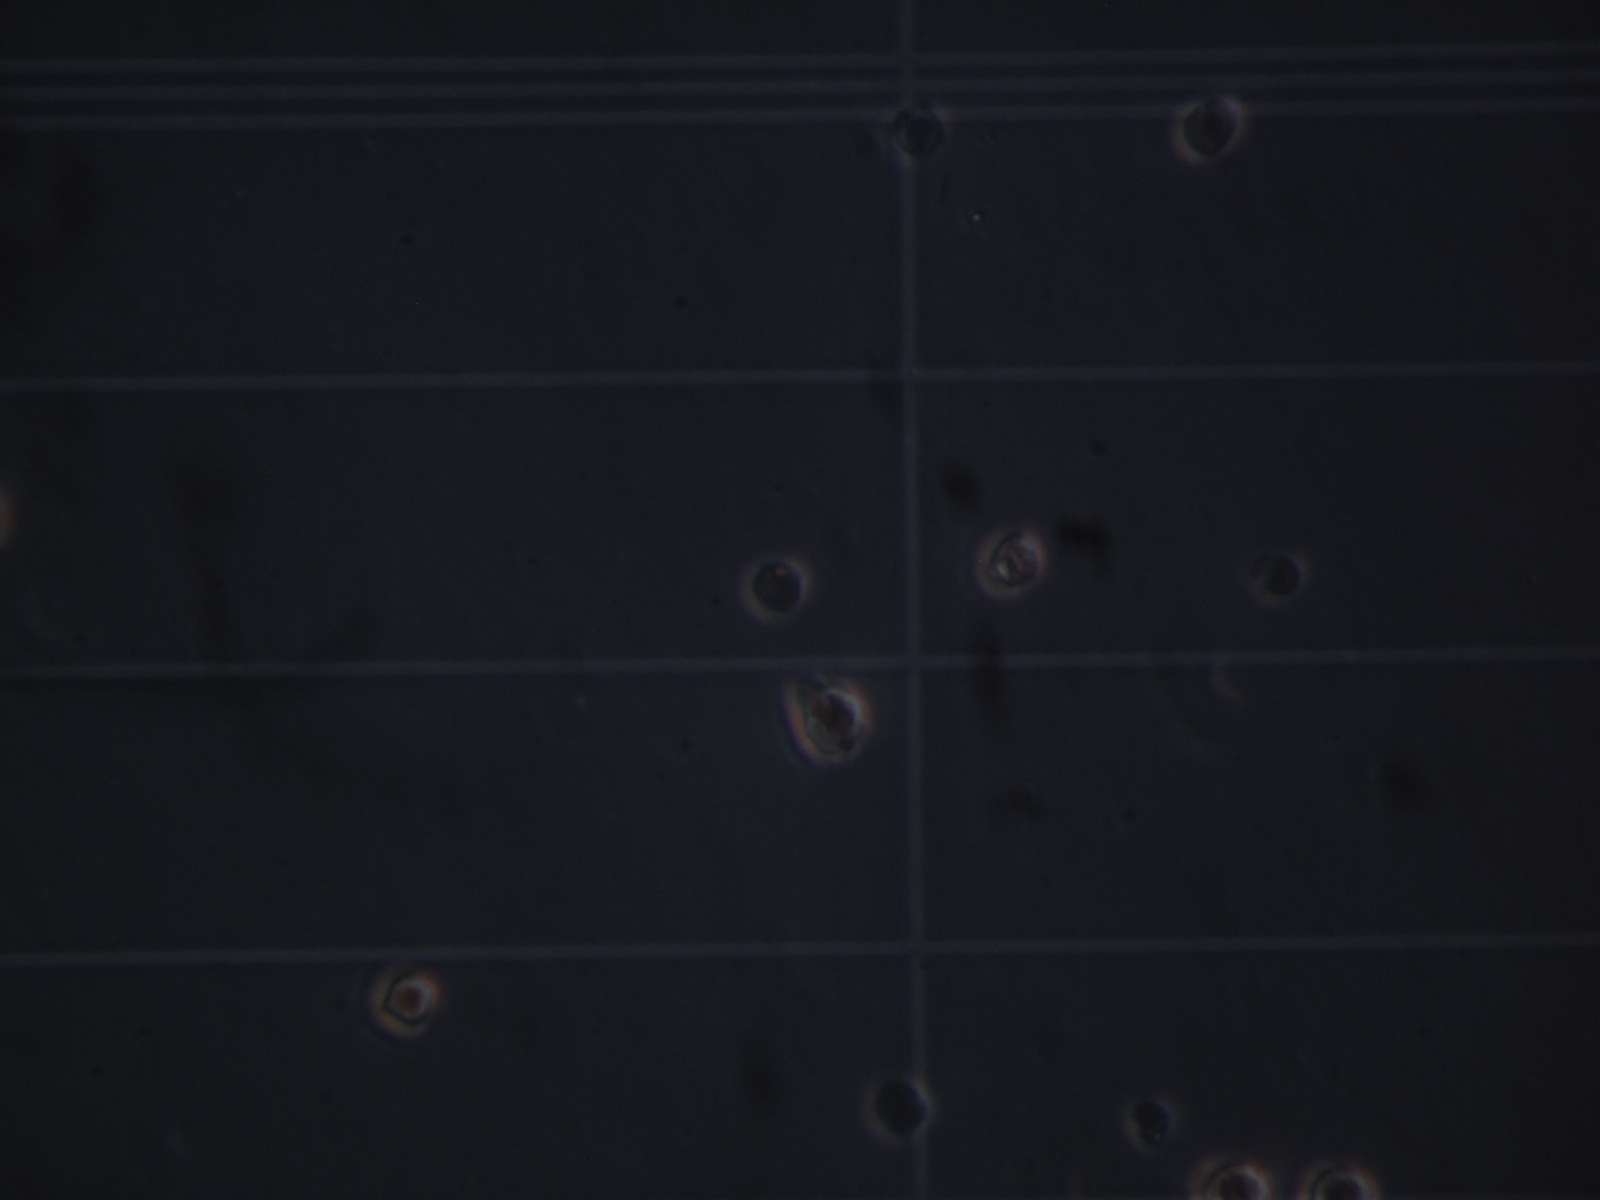hemo: (787, 688, 866, 760), (864, 1071, 939, 1143), (370, 964, 438, 1040), (741, 553, 811, 623), (973, 524, 1047, 590), (1175, 93, 1245, 161), (889, 95, 949, 164), (1187, 1155, 1271, 1200), (1252, 548, 1311, 609), (1298, 1158, 1382, 1200)
